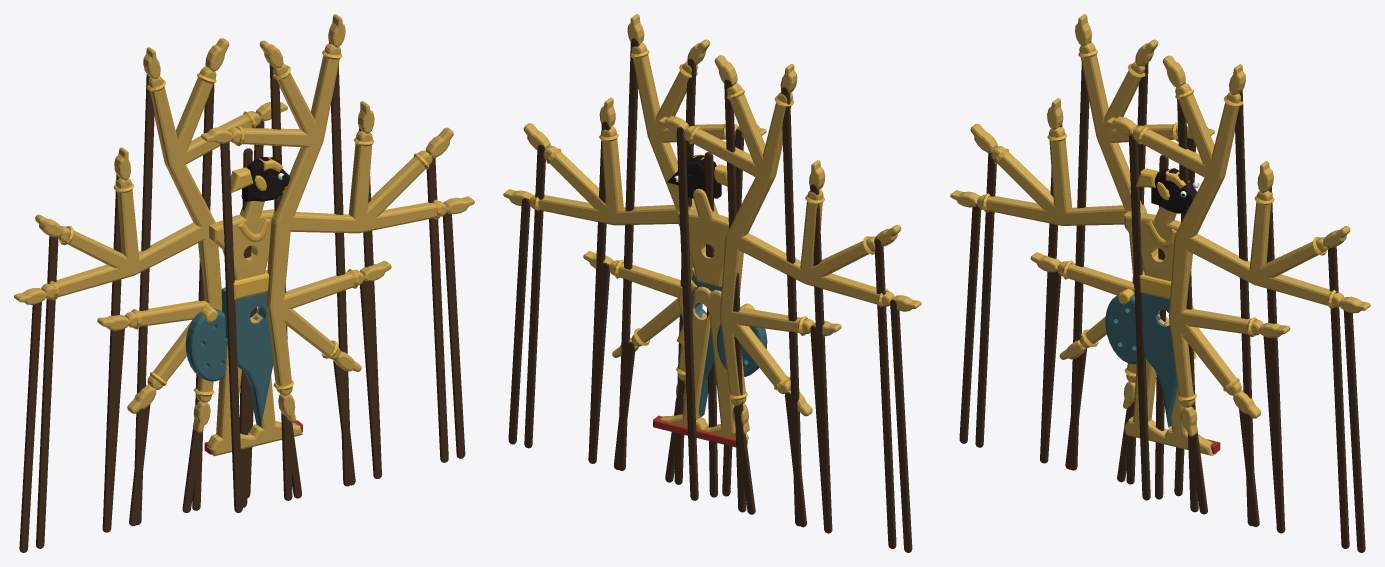
File: nakula.glb
3 renders of one model, left to right at view 1: azimuth 30°, elevation 25°; view 2: azimuth 150°, elevation 25°; view 3: azimuth 330°, elevation 25°, orthographic. The views are drawn at different scales.
Visible parts, largest first — view 1: body, back_20, front_20, back_10, front_10, front_22, front_11, back_11, front_00, back_12, back_21, front_12 (+8 smaller); view 2: body, back_20, front_20, back_10, back_22, front_10, front_11, back_11, back_21, back_00, back_12, front_12 (+8 smaller); view 3: body, front_20, back_20, front_10, back_10, front_22, back_11, front_11, front_00, front_12, front_21, back_02 (+8 smaller).
Part boxes in pixels (x1=…): body: x1=185, y1=148, x2=302, y2=507; back_20: x1=134, y1=47, x2=215, y2=525; front_20: x1=271, y1=14, x2=350, y2=486; back_10: x1=14, y1=223, x2=212, y2=552; front_10: x1=271, y1=196, x2=474, y2=458; front_22: x1=201, y1=125, x2=316, y2=512; front_11: x1=358, y1=127, x2=453, y2=462; back_11: x1=35, y1=214, x2=135, y2=548; front_00: x1=266, y1=217, x2=301, y2=498; back_12: x1=103, y1=147, x2=139, y2=531; back_21: x1=165, y1=38, x2=229, y2=510; front_12: x1=348, y1=101, x2=381, y2=478; body: x1=653, y1=152, x2=767, y2=497; back_20: x1=726, y1=64, x2=801, y2=526; front_20: x1=618, y1=14, x2=696, y2=470; back_10: x1=726, y1=233, x2=921, y2=552; back_22: x1=658, y1=116, x2=771, y2=500; front_10: x1=503, y1=189, x2=679, y2=444; front_11: x1=523, y1=123, x2=614, y2=448; back_11: x1=804, y1=225, x2=901, y2=548; back_21: x1=714, y1=55, x2=774, y2=512; back_00: x1=720, y1=234, x2=755, y2=514; back_12: x1=800, y1=160, x2=831, y2=532; front_12: x1=588, y1=97, x2=623, y2=463; body: x1=1105, y1=155, x2=1220, y2=499; front_20: x1=1175, y1=64, x2=1254, y2=526; back_20: x1=1070, y1=14, x2=1146, y2=470; front_10: x1=1175, y1=234, x2=1370, y2=552; back_10: x1=950, y1=190, x2=1145, y2=443; front_22: x1=1106, y1=116, x2=1220, y2=500; back_11: x1=970, y1=124, x2=1062, y2=447; front_11: x1=1253, y1=226, x2=1350, y2=548; front_00: x1=1168, y1=234, x2=1207, y2=514; front_12: x1=1249, y1=161, x2=1284, y2=533; front_21: x1=1162, y1=55, x2=1224, y2=512; back_02: x1=1030, y1=252, x2=1134, y2=463.
Size of the model in its own units: 1.26 by 1.29 by 0.1148.
